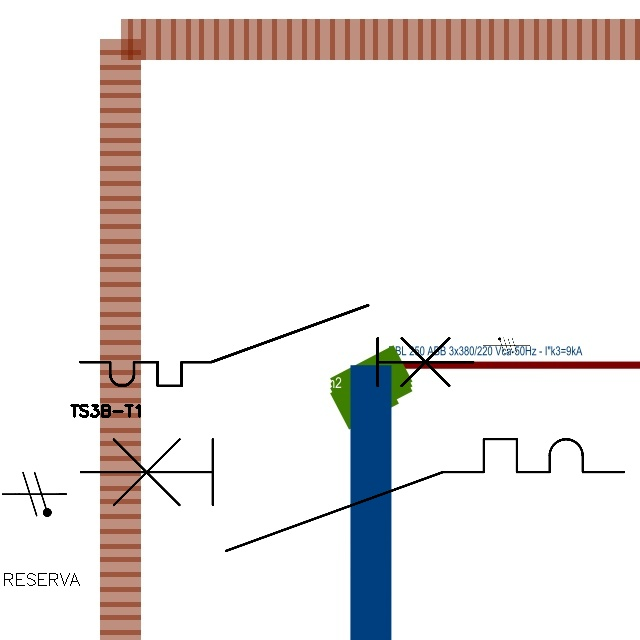interruptor_termomagnetico: (66, 425, 637, 565), (70, 295, 483, 396)
